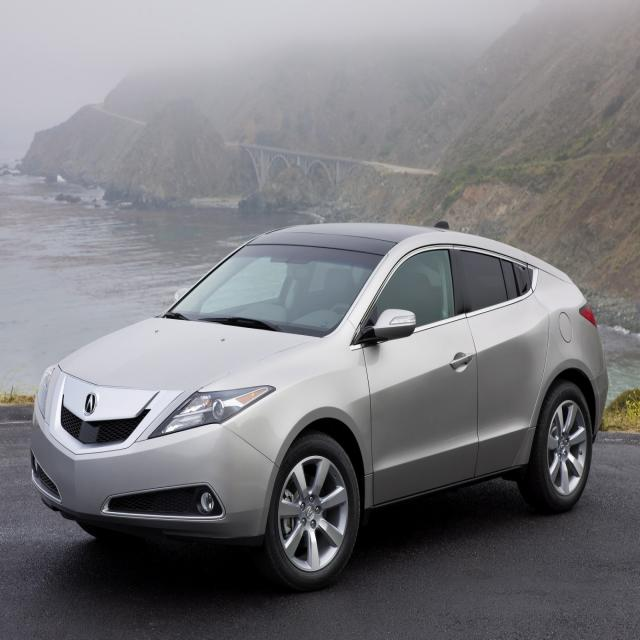car: (25, 209, 611, 592)
